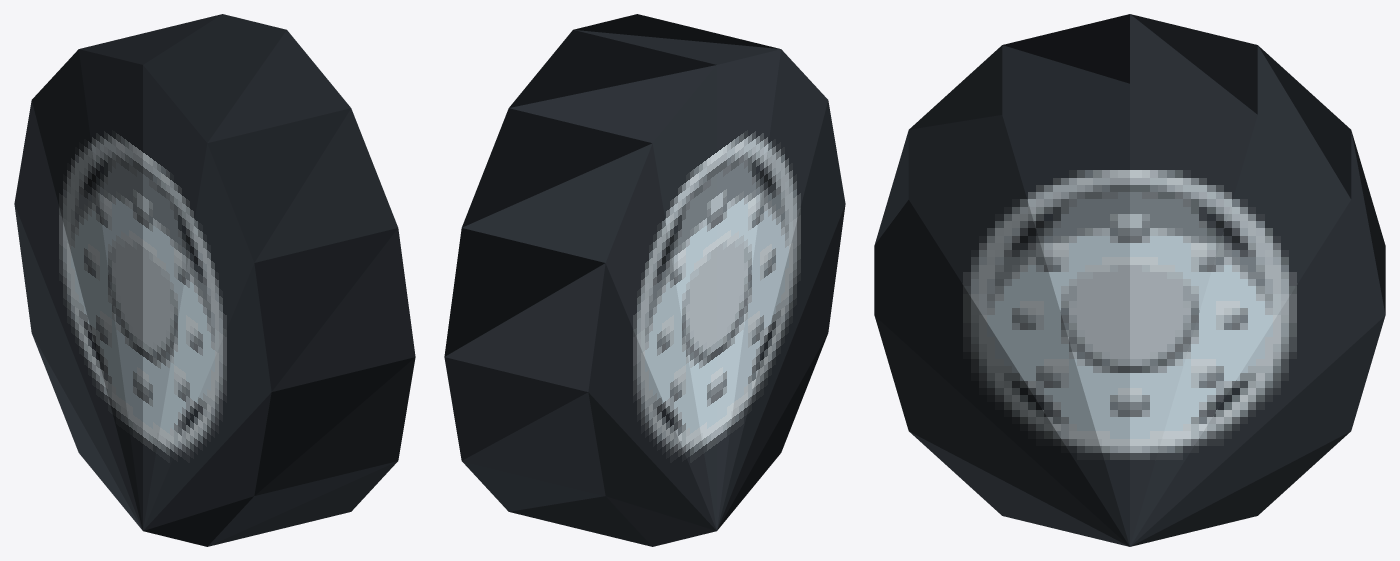
Rendered from DonutVanLlanta01.obj.
3 views of the same model, side by side, from view 1: azimuth 30°, elevation 25°; view 2: azimuth 150°, elevation 25°; view 3: azimuth 270°, elevation 25° (orthographic).
Parts seen in each view (by area): view 1: Llanta02; view 2: Llanta02; view 3: Llanta02.
Boxes of the visible parts, x1,y1,x2,y2 form: Llanta02: (14,14,415,546); Llanta02: (444,14,845,546); Llanta02: (874,14,1385,546).
Bounding box in the file's own units: 0.2444 × 0.7564 × 0.7564.
1 material, 1 textured.
